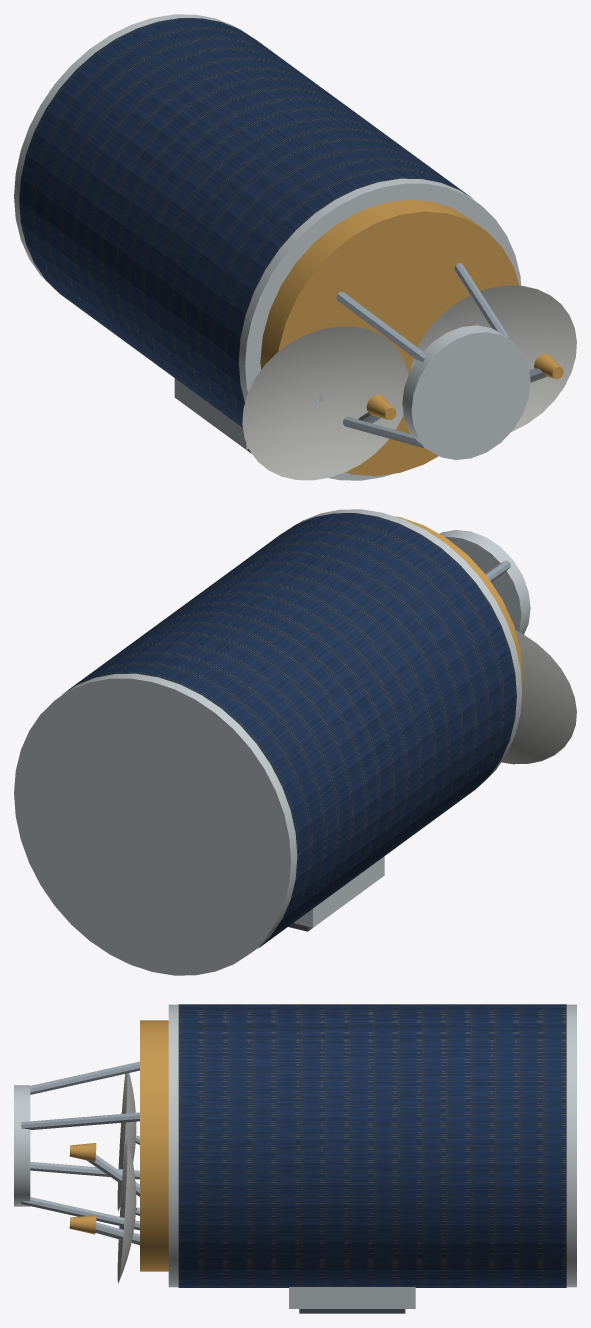
Rendered from goes-vas.glb.
3 views of the same model, one above another, from view 1: azimuth 30°, elevation 25°; view 2: azimuth 150°, elevation 25°; view 3: azimuth 270°, elevation 25° (orthographic). The views are drawn at different scales.
Parts seen in each view (by area): view 1: Body-mounted solar cells, Deck-mounted reflector (×2), Despun equipment deck, Antenna tower platform, Solar drum core, Antenna tower leg (×3), Radiometer window surround; view 2: Body-mounted solar cells, Solar drum core, Deck-mounted reflector, Antenna tower platform, Radiometer window surround, Despun equipment deck; view 3: Body-mounted solar cells, Despun equipment deck, Solar drum core, Antenna tower leg (×4), Radiometer window surround, Deck-mounted reflector (×2), Antenna tower platform, Offset feed boom (×2), Feed horn (×2), Radiometer viewing port.
Part boxes in pixels (x1,y1,x2,y2): Body-mounted solar cells: (19, 18, 472, 427); Deck-mounted reflector (×2): (242, 285, 576, 480); Despun equipment deck: (260, 199, 519, 476); Antenna tower platform: (402, 325, 530, 459); Solar drum core: (14, 14, 521, 480); Antenna tower leg (×3): (336, 263, 509, 448); Radiometer window surround: (174, 378, 248, 449); Body-mounted solar cells: (62, 513, 516, 948); Solar drum core: (14, 509, 522, 975); Deck-mounted reflector: (501, 630, 576, 764); Antenna tower platform: (439, 530, 530, 634); Radiometer window surround: (293, 856, 384, 927); Despun equipment deck: (395, 516, 522, 686); Body-mounted solar cells: (178, 1004, 566, 1287); Despun equipment deck: (140, 1020, 168, 1271); Solar drum core: (168, 1004, 576, 1287); Antenna tower leg (×4): (21, 1061, 139, 1230); Radiometer window surround: (289, 1287, 415, 1308); Deck-mounted reflector (×2): (117, 1073, 136, 1283); Antenna tower platform: (14, 1085, 30, 1206); Offset feed boom (×2): (87, 1155, 139, 1245); Feed horn (×2): (69, 1143, 96, 1234); Radiometer viewing port: (299, 1309, 405, 1313).
Size of the model in its own units: 2.54 by 2.22 by 4.18.
Materials: 6 (1 with a texture image).
